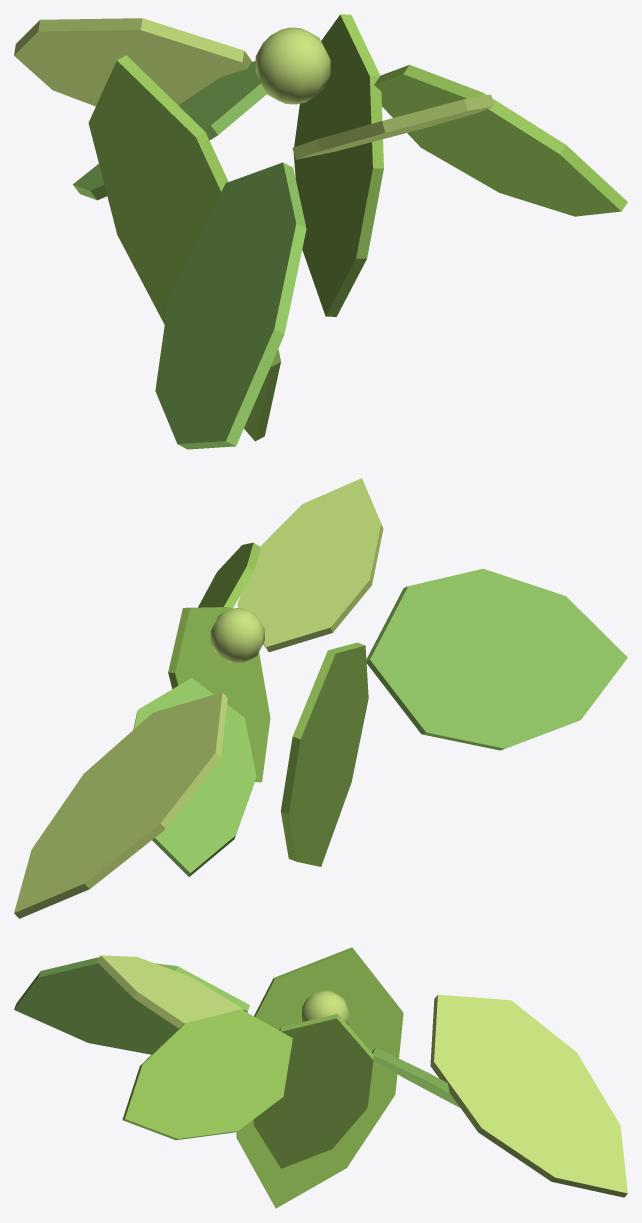
File: lettuce-growing.glb
3 renders of one model, top to bottom at view 1: azimuth 30°, elevation 25°; view 2: azimuth 150°, elevation 25°; view 3: azimuth 270°, elevation 25°, orthographic. The views are drawn at different scales.
Parts seen in each view (by area): view 1: lettuce_growing_lettuce, lettuce_growing_leafLight, lettuce_growing_lettuceCore; view 2: lettuce_growing_leafLight, lettuce_growing_lettuceCore, lettuce_growing_lettuce; view 3: lettuce_growing_lettuce, lettuce_growing_lettuceCore, lettuce_growing_leafLight.
Part boxes in pixels (x1=…): lettuce_growing_lettuce: x1=88, y1=14, x2=627, y2=441; lettuce_growing_leafLight: x1=73, y1=61, x2=306, y2=449; lettuce_growing_lettuceCore: x1=14, y1=18, x2=493, y2=159; lettuce_growing_leafLight: x1=133, y1=568, x2=627, y2=876; lettuce_growing_lettuceCore: x1=14, y1=478, x2=383, y2=918; lettuce_growing_lettuce: x1=168, y1=542, x2=368, y2=866; lettuce_growing_lettuce: x1=122, y1=947, x2=403, y2=1208; lettuce_growing_lettuceCore: x1=97, y1=955, x2=627, y2=1197; lettuce_growing_leafLight: x1=14, y1=957, x2=460, y2=1107.
Size of the model in its own units: 0.3186 by 0.2644 by 0.5333.
